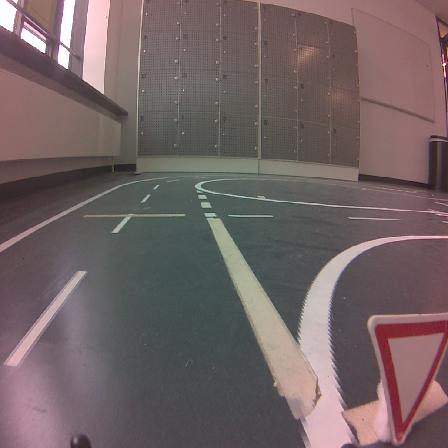GIVE_WAY: (368, 313, 447, 444)
